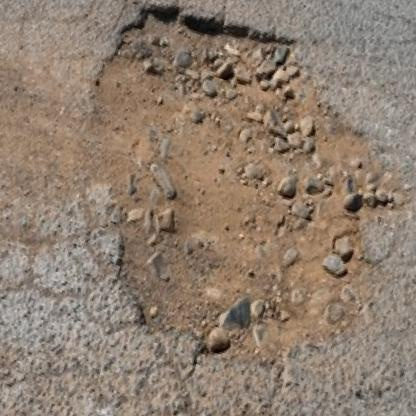pothole: (28, 0, 416, 397)
